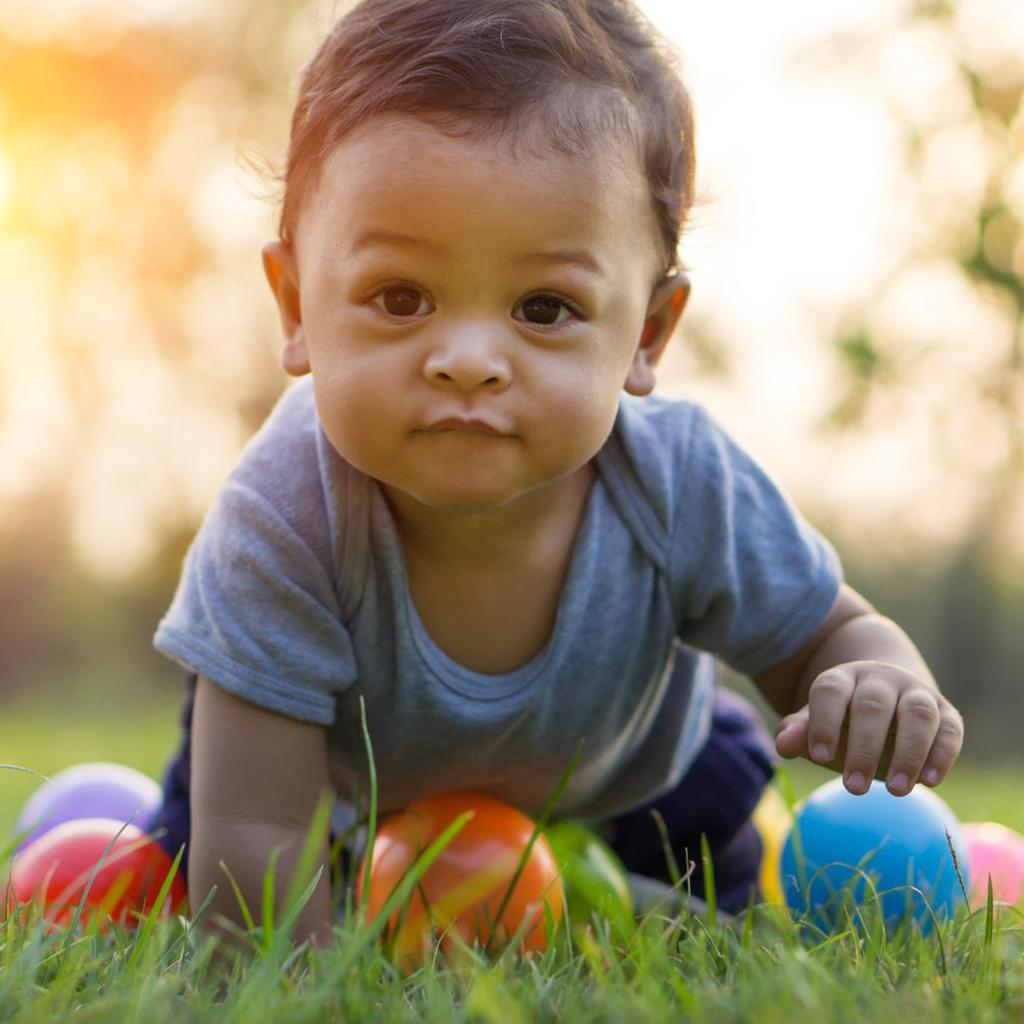child: (108, 2, 976, 952)
